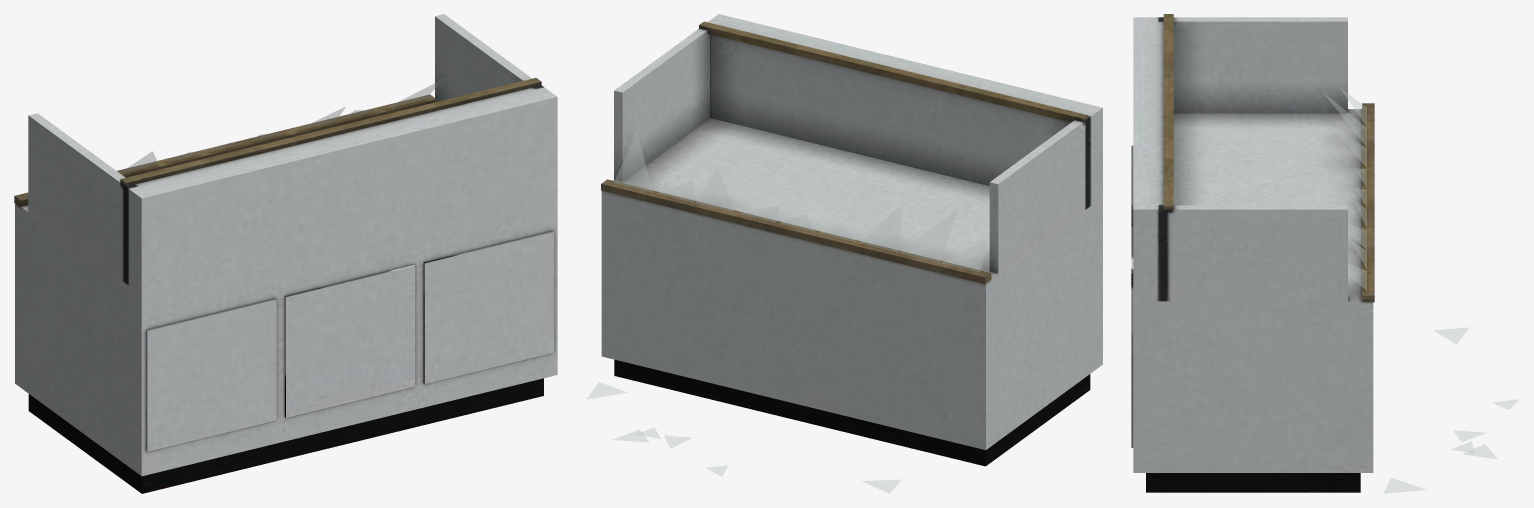
The model's file is fridge_counter_broken_lod1_web.glb.
3 renders of one model, left to right at view 1: azimuth 30°, elevation 25°; view 2: azimuth 150°, elevation 25°; view 3: azimuth 270°, elevation 25°, orthographic. The views are drawn at different scales.
Visible parts, largest first — view 1: FridgeCounterBroken_Body, Glass_Front; view 2: FridgeCounterBroken_Body, Glass_Front, Glass_Shards; view 3: FridgeCounterBroken_Body, Glass_Front, Glass_Shards.
Boxes of the visible parts, left/top/right/bottom form: FridgeCounterBroken_Body: left=14, top=14, right=557, bottom=493; Glass_Front: left=120, top=78, right=444, bottom=173; FridgeCounterBroken_Body: left=601, top=14, right=1102, bottom=466; Glass_Front: left=614, top=132, right=987, bottom=272; Glass_Shards: left=586, top=382, right=900, bottom=493; FridgeCounterBroken_Body: left=1131, top=14, right=1374, bottom=492; Glass_Front: left=1323, top=88, right=1366, bottom=290; Glass_Shards: left=1383, top=328, right=1518, bottom=493.
Bounding box in the file's own units: 1.8 × 1.27 × 1.54.
2 materials, 1 textured.
